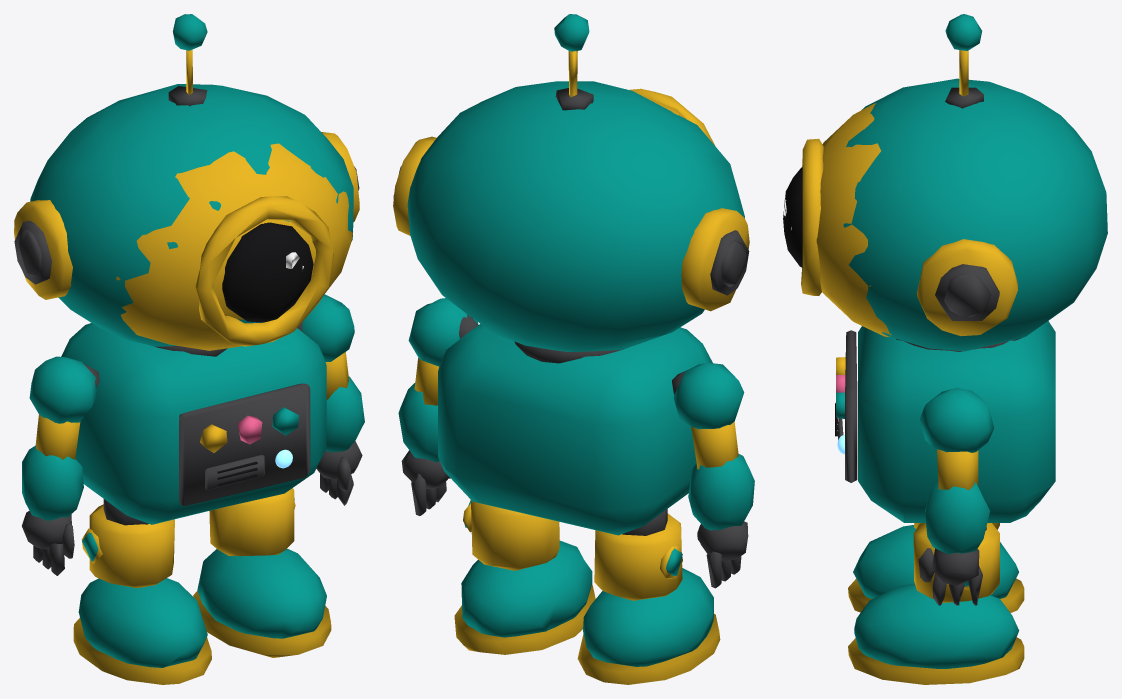
File: courier.glb
3 views of the same model, side by side, from view 1: azimuth 30°, elevation 25°; view 2: azimuth 150°, elevation 25°; view 3: azimuth 270°, elevation 25° (orthographic). The views are drawn at different scales.
Visible parts, largest first — view 1: Head; view 2: Head; view 3: Head.
Part boxes in pixels (box(x1,y1,x2,y2)): Head: box(14, 14, 364, 684); Head: box(393, 14, 754, 684); Head: box(783, 14, 1107, 684).
Bounding box in the file's own units: 1.12 × 1.96 × 0.9374.
Materials: 3 (3 with a texture image).
